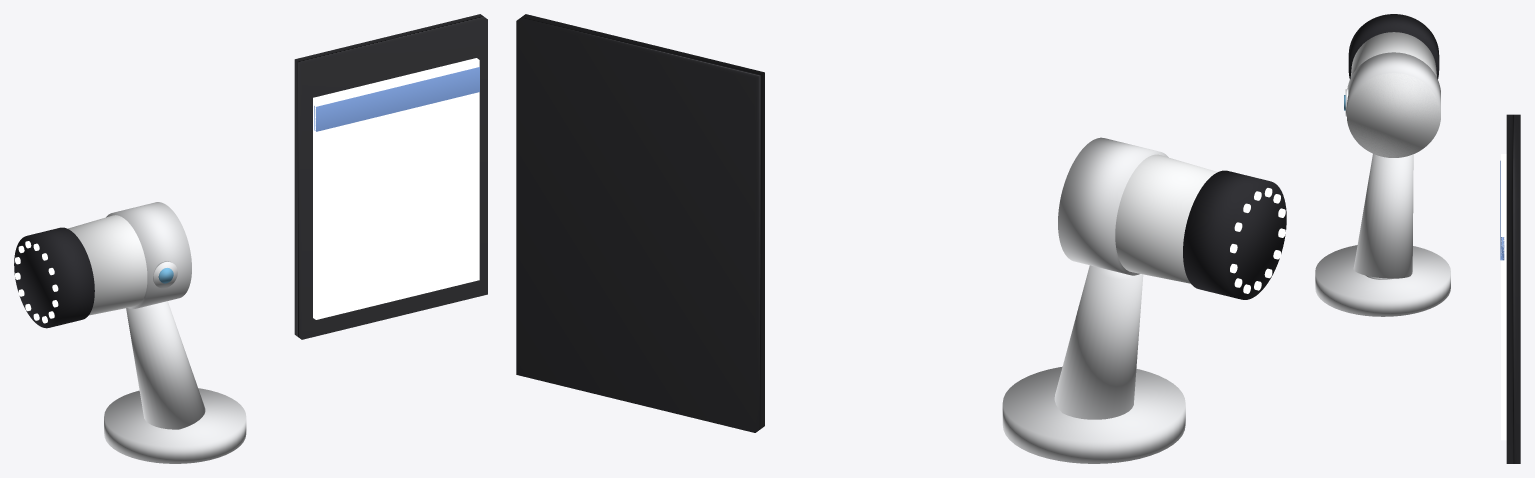
The picture shows the model from 3 angles, left to right: view 1: azimuth 30°, elevation 25°; view 2: azimuth 150°, elevation 25°; view 3: azimuth 270°, elevation 25°; orthographic projection. The views are drawn at different scales.
Parts seen in each view (by area): view 1: Tablet_Screen, Tablet_Body, Stand_Base, Grip, Head_Housing, Body, Tablet_Header, Collar; view 2: Tablet_Body, Stand_Base, Grip, Head_Housing, Body, Collar; view 3: Body, Stand_Base, Grip, Collar, Tablet_Body, Head_Housing, Tablet_Screen.
Boxes of the visible parts, x1,y1,x2,y2 form: Tablet_Screen: (313, 58, 479, 319); Tablet_Body: (294, 14, 487, 339); Stand_Base: (104, 388, 246, 463); Grip: (126, 301, 205, 429); Head_Housing: (14, 227, 94, 328); Body: (68, 215, 147, 315); Tablet_Header: (314, 67, 479, 131); Collar: (106, 202, 191, 309); Tablet_Body: (516, 14, 764, 432); Stand_Base: (1002, 366, 1185, 463); Grip: (1054, 265, 1143, 419); Head_Housing: (1183, 170, 1286, 299); Body: (1115, 154, 1217, 283); Collar: (1058, 137, 1168, 275); Body: (1347, 32, 1440, 157); Stand_Base: (1315, 245, 1450, 316); Grip: (1353, 154, 1413, 278); Collar: (1346, 52, 1440, 157); Tablet_Body: (1506, 114, 1520, 463); Head_Housing: (1348, 14, 1439, 79); Tablet_Screen: (1501, 154, 1506, 440).
Size of the model in its own units: 1.99 by 1.02 by 0.7267.
